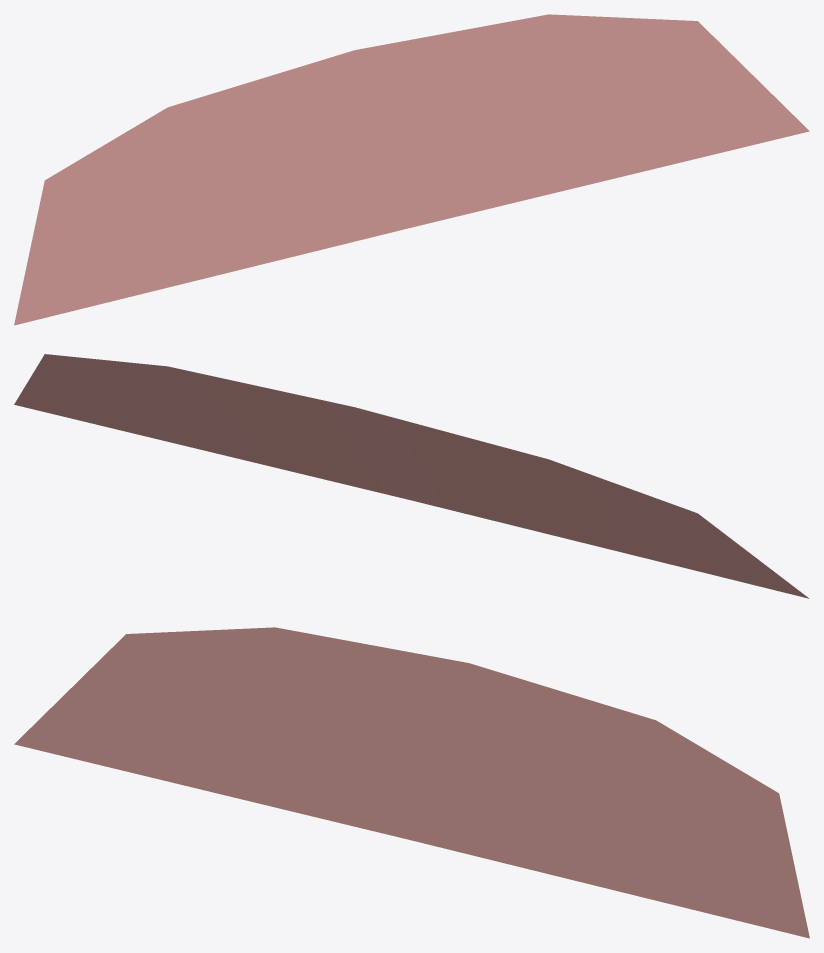
Rendered from R34_RoofScoop_01_Trim.fbx.
3 views of the same model, one above another, from view 1: azimuth 30°, elevation 25°; view 2: azimuth 150°, elevation 25°; view 3: azimuth 330°, elevation 25° (orthographic).
Parts seen in each view (by area): view 1: R34_RoofScoop_01_Trim; view 2: R34_RoofScoop_01_Trim; view 3: R34_RoofScoop_01_Trim.
Boxes of the visible parts, x1,y1,x2,y2 form: R34_RoofScoop_01_Trim: [14, 14, 809, 325]; R34_RoofScoop_01_Trim: [14, 354, 809, 598]; R34_RoofScoop_01_Trim: [14, 627, 809, 938].
Size of the model in its own units: 21.38 by 3.5 by 2.67.
